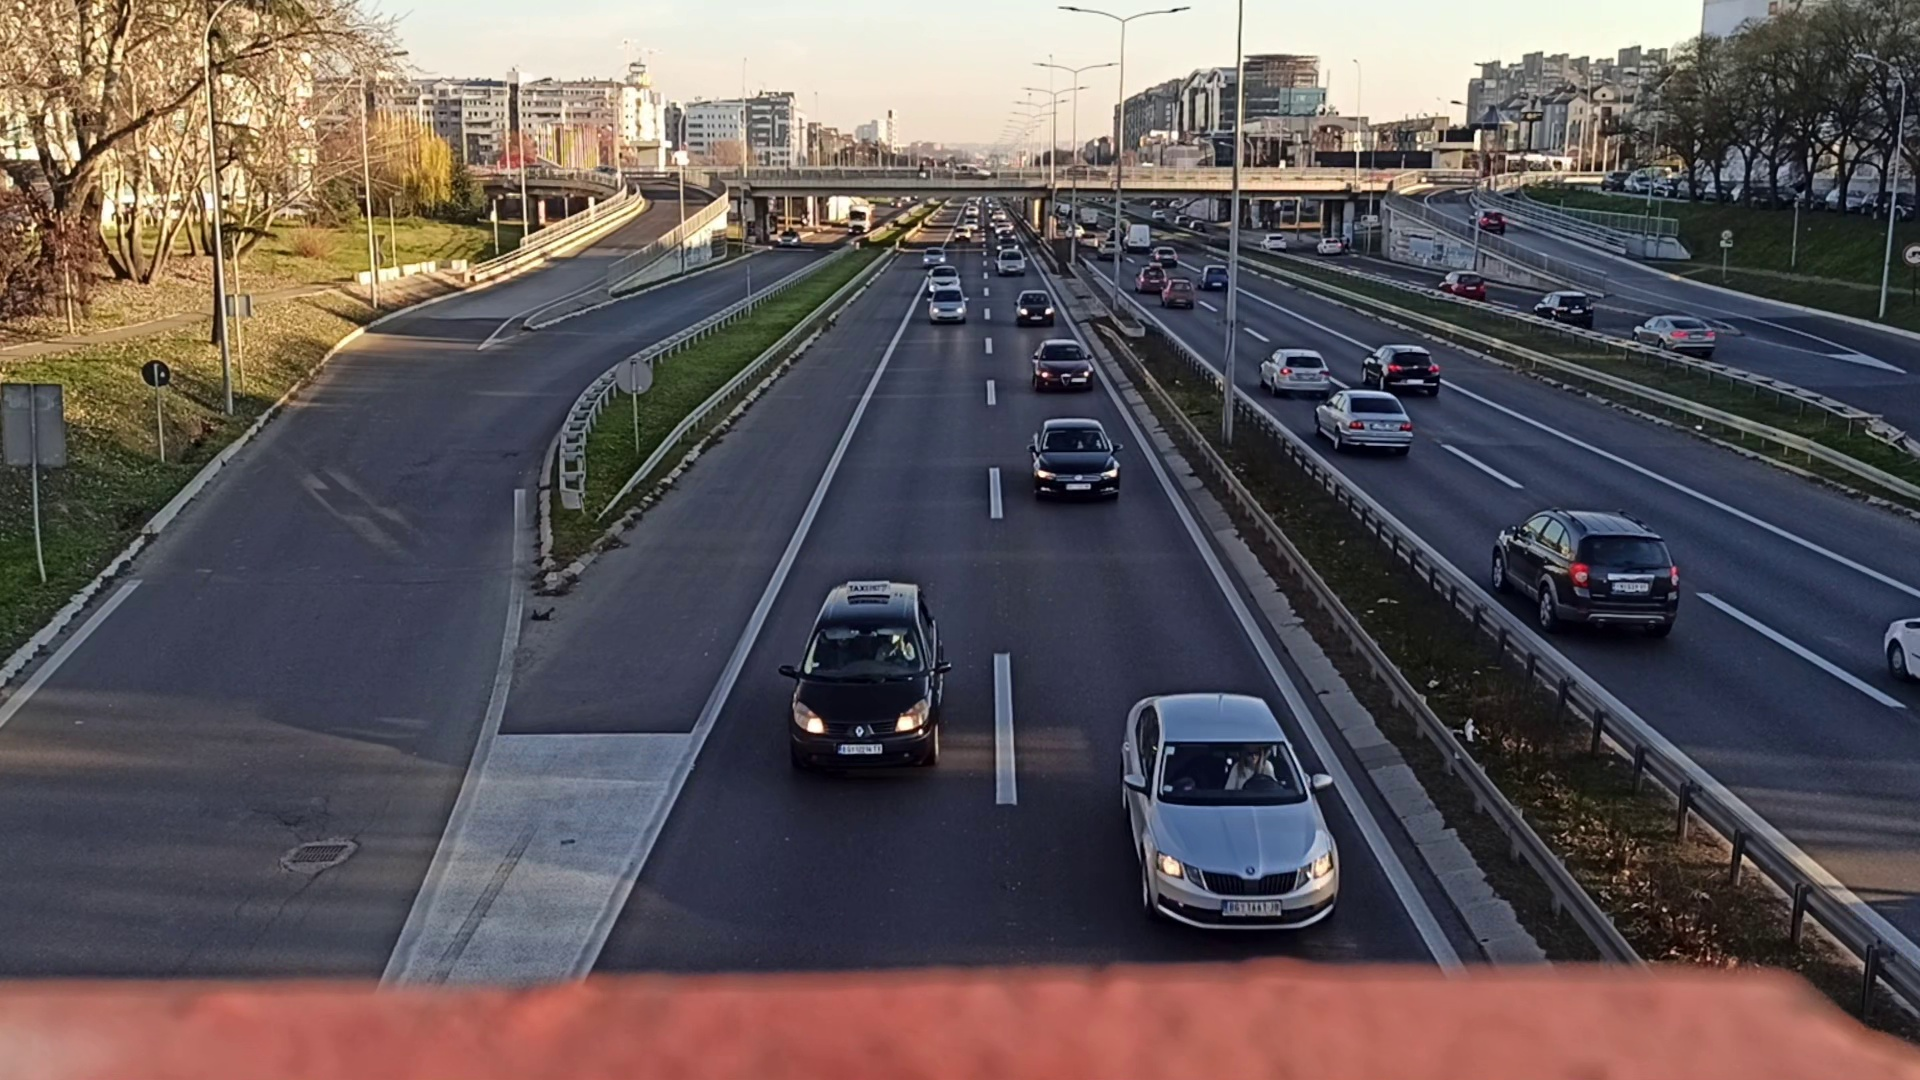car: (1114, 695, 1345, 944), (787, 574, 947, 771), (1490, 505, 1675, 649), (1029, 414, 1122, 505), (1317, 386, 1412, 458), (1364, 342, 1437, 396), (1255, 347, 1335, 396), (1633, 311, 1716, 357), (1030, 339, 1095, 393), (1536, 289, 1593, 323), (1015, 289, 1055, 324), (928, 289, 967, 324), (1443, 270, 1487, 301), (1469, 206, 1505, 236), (1162, 276, 1192, 307), (997, 249, 1025, 276)
